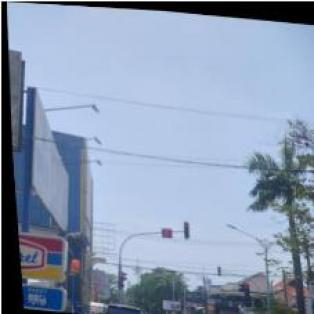Semaforo Rojo: (112, 271, 120, 289), (238, 282, 246, 299), (180, 220, 185, 238)
